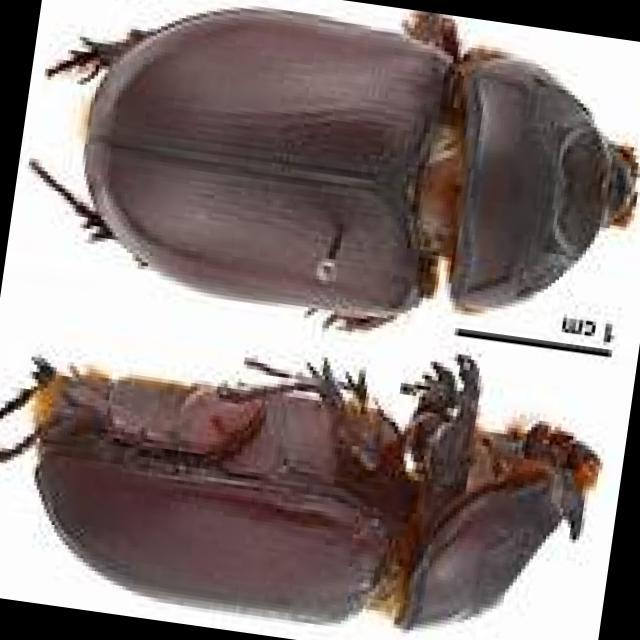Red-palm-weevil: (15, 2, 637, 334)
Rhino-beetle: (0, 365, 612, 631)
